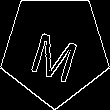M_N: (27, 18, 83, 80)
